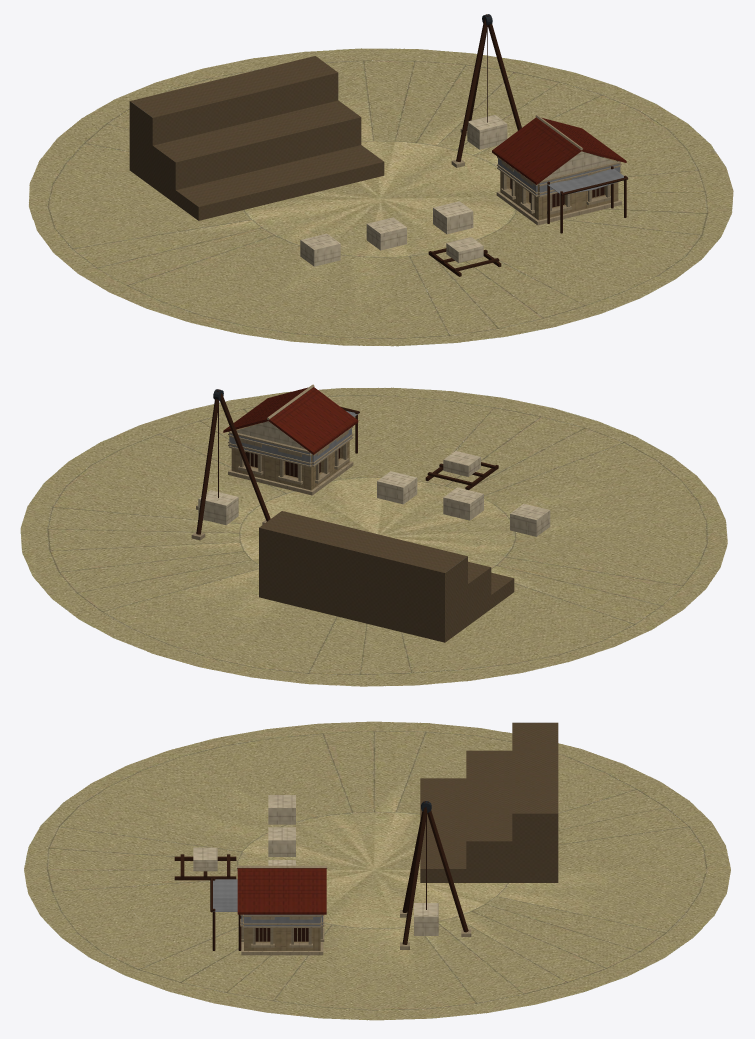
The model's file is quarry-bronze.glb.
The picture shows the model from 3 angles, top to bottom: view 1: azimuth 30°, elevation 25°; view 2: azimuth 150°, elevation 25°; view 3: azimuth 270°, elevation 25°; orthographic projection.
Parts seen in each view (by area): view 1: LOD0; view 2: LOD0; view 3: LOD0.
Boxes of the visible parts, x1=… form: LOD0: x1=29, y1=14, x2=733, y2=346; LOD0: x1=20, y1=384, x2=727, y2=686; LOD0: x1=24, y1=721, x2=730, y2=1020.
Size of what is drawn, in the model's own units: 4.74 by 0.9553 by 4.74.
Materials: 3 (3 with a texture image).
